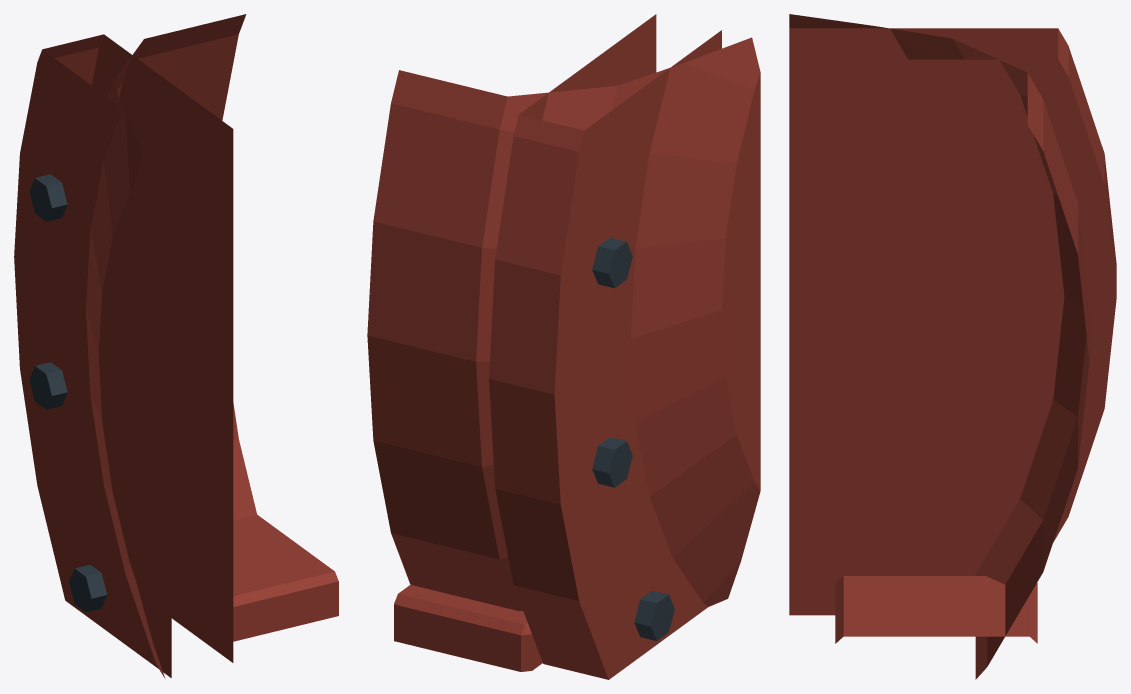
File: cell_28.obj
3 views of the same model, side by side, from view 1: azimuth 30°, elevation 25°; view 2: azimuth 150°, elevation 25°; view 3: azimuth 270°, elevation 25° (orthographic). The views are drawn at different scales.
Size of the model in its own units: 0.4425 by 1 by 0.5346.
